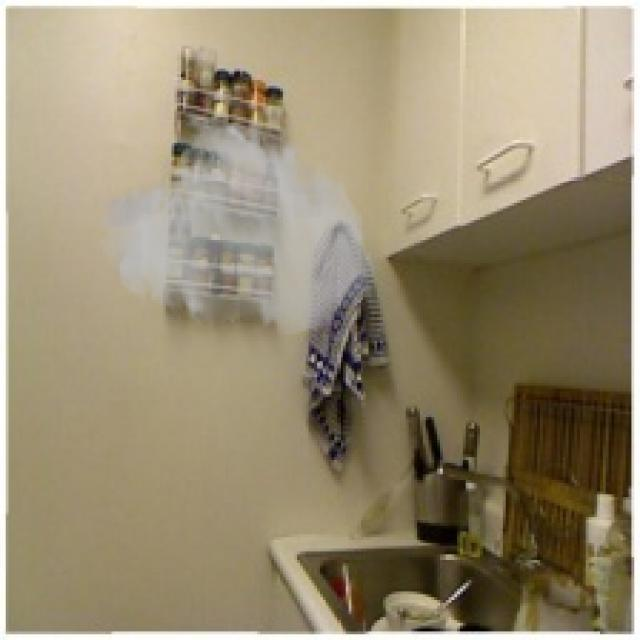Smoke: (97, 109, 377, 338)
